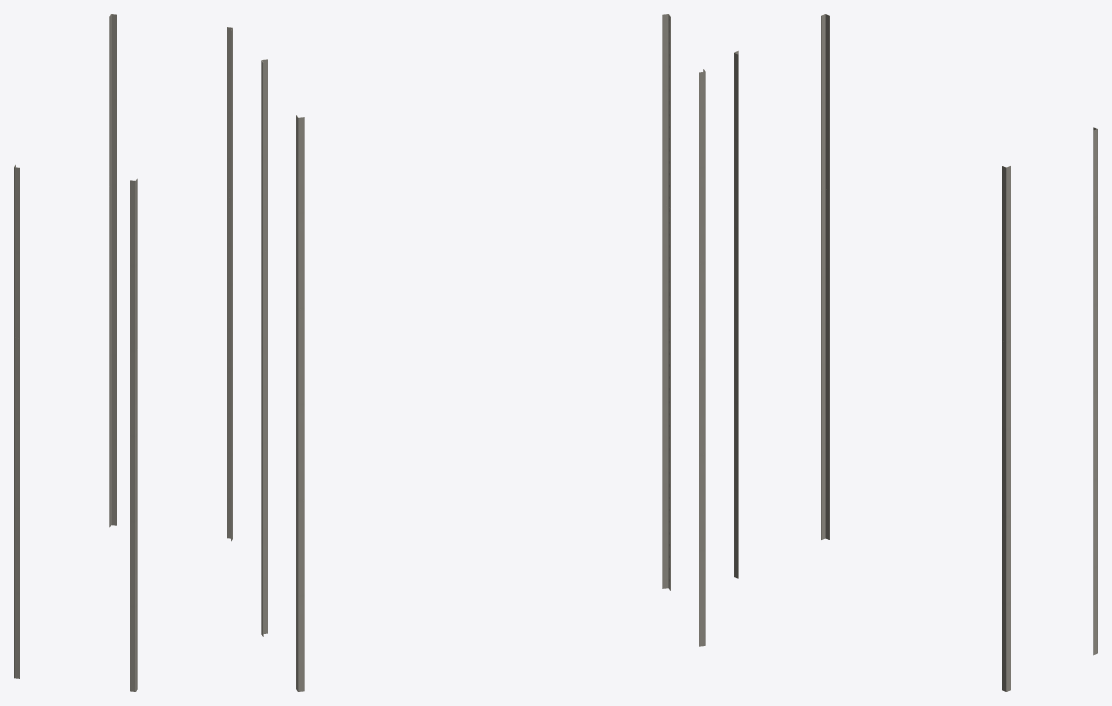
The model's file is shelf_0301_t50_h1800_w1200.glb.
3 renders of one model, left to right at view 1: azimuth 30°, elevation 25°; view 2: azimuth 150°, elevation 25°; view 3: azimuth 270°, elevation 25°, orthographic. The views are drawn at different scales.
Parts seen in each view (by area): view 1: shelf_0301_t50_h1800_w1200; view 2: shelf_0301_t50_h1800_w1200; view 3: shelf_0301_t50_h1800_w1200.
Boxes of the visible parts, x1,y1,x2,y2 form: shelf_0301_t50_h1800_w1200: (14,14,232,691); shelf_0301_t50_h1800_w1200: (261,14,705,691); shelf_0301_t50_h1800_w1200: (734,14,1097,691).
Bounding box in the file's own units: 1.13 × 1.8 × 1.13.
1 material, 1 textured.
